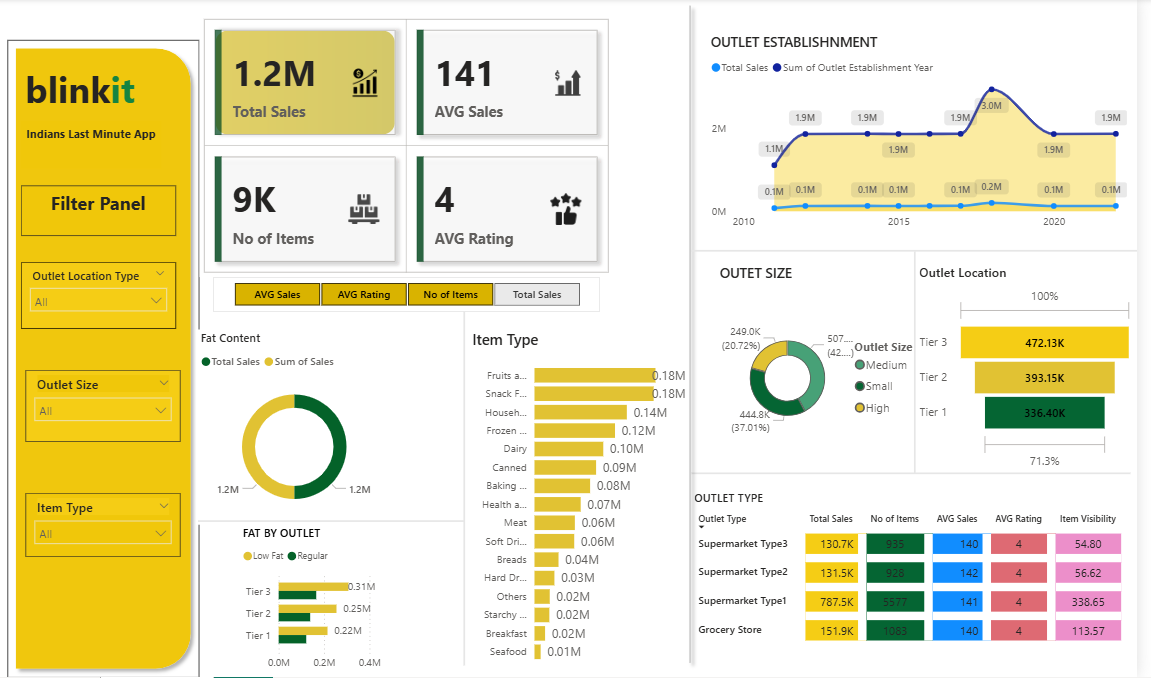

The dashboard page shown, as its layout file describes it:
{"tool":"powerbi","page":{"name":"Page 1","canvas":[1400,800],"ordinal":0},"visuals":[{"type":"shape","box":[68.9,49.5,226.2,751.1],"z":0},{"type":"textbox","box":[84.6,73.1,182.7,71.2],"z":1000},{"type":"cardVisual","fields":{"Data":["BlinkIT Grocery Data.Total Sales","BlinkIT Grocery Data.AVG Sales","BlinkIT Grocery Data.No of Items","BlinkIT Grocery Data.AVG Rating"]},"box":[295.1,19.4,487.8,309.3],"z":2000},{"type":"donutChart","title":" Fat Content","fields":{"Y":["BlinkIT Grocery Data.Total Sales","Sum(BlinkIT Grocery Data.Sales)"]},"box":[291.6,390.6,229.8,229.8],"z":3000},{"type":"slicer","fields":{"Values":["Metrices.Metrices"]},"box":[311.1,328.7,456,40.6],"z":4000},{"type":"actionButton","box":[0,0,100,40],"z":5000},{"type":"cardVisual","fields":{"Data":["BlinkIT Grocery Data.Total Sales"]},"box":[452.4,620.3,68.9,42.4],"z":6000},{"type":"clusteredBarChart","title":"FAT BY OUTLET","fields":{"Y":["BlinkIT Grocery Data.Total Sales"],"Category":["BlinkIT Grocery Data.Outlet Location Type"],"Series":["BlinkIT Grocery Data.Item Fat Content"]},"box":[341.1,620.3,180.3,180.3],"z":7000},{"type":"shape","box":[295.1,369.4,623.9,417.1],"z":8000},{"type":"barChart","title":"Item Type","fields":{"Y":["BlinkIT Grocery Data.Total Sales"],"Category":["BlinkIT Grocery Data.Item Type"]},"box":[611.5,390.4,261.5,401.9],"z":9000},{"type":"lineChart","title":"OUTLET ESTABLISHNMENT","fields":{"Y":["BlinkIT Grocery Data.Total Sales","Sum(BlinkIT Grocery Data.Outlet Establishment Year)","BlinkIT Grocery Data.Total Sales"],"Category":["BlinkIT Grocery Data.Outlet Establishment Year"]},"box":[892.3,40.4,500,240.4],"z":10000},{"type":"donutChart","title":"OUTET SIZE","fields":{"Y":["BlinkIT Grocery Data.Total Sales"],"Category":["BlinkIT Grocery Data.Outlet Size"]},"box":[903.8,313.5,251.9,248.1],"z":11000},{"type":"funnel","title":" Outlet Location ","fields":{"Y":["Sum(BlinkIT Grocery Data.Sales)"],"Category":["BlinkIT Grocery Data.Outlet Location Type"]},"box":[1138.5,313.5,261.5,248.1],"z":12000},{"type":"pivotTable","title":"OUTLET TYPE","fields":{"Rows":["BlinkIT Grocery Data.Outlet Type"],"Values":["BlinkIT Grocery Data.Total Sales","BlinkIT Grocery Data.No of Items","BlinkIT Grocery Data.AVG Sales","BlinkIT Grocery Data.AVG Rating","Sum(BlinkIT Grocery Data.Item Visibility)"]},"box":[873.1,578.8,519.2,213.5],"z":13000},{"type":"textbox","box":[84.6,144.2,165.4,55.8],"z":14000},{"type":"shape","box":[294.2,546.2,313.5,140.4],"z":15000},{"type":"shape","box":[875,409.6,517.3,300],"z":16000},{"type":"shape","box":[730.8,0,286.5,792.3],"z":17000},{"type":"shape","box":[988.5,298.1,300,261.5],"z":18000},{"type":"shape","box":[875,221.2,525,153.8],"z":19000},{"type":"slicer","fields":{"Values":["BlinkIT Grocery Data.Outlet Location Type"]},"box":[84.6,311.5,182.7,78.8],"z":20000},{"type":"slicer","fields":{"Values":["BlinkIT Grocery Data.Outlet Size"]},"box":[90.4,438.5,182.7,84.6],"z":21000},{"type":"slicer","fields":{"Values":["BlinkIT Grocery Data.Item Type"]},"box":[90.4,582.7,182.7,75],"z":22000},{"type":"textbox","box":[84.6,221.2,182.7,59.6],"z":23000}]}

Visuals, with their boxes on the page's 1400x800 design canvas (x1, y1, x2, y2). These are canvas units, not pixel positions in the 1151x678 screenshot, which may show the page scaled, cropped or inside an application window:
shape: 69 50 295 801
textbox: 85 73 267 144
cardVisual - BlinkIT Grocery Data.Total Sales x BlinkIT Grocery Data.AVG Sales: 295 19 783 329
" Fat Content" donutChart: 292 391 521 620
slicer - Metrices.Metrices: 311 329 767 369
actionButton: 0 0 100 40
cardVisual - BlinkIT Grocery Data.Total Sales: 452 620 521 663
"FAT BY OUTLET" clusteredBarChart: 341 620 521 801
shape: 295 369 919 786
"Item Type" barChart: 612 390 873 792
"OUTLET ESTABLISHNMENT" lineChart: 892 40 1392 281
"OUTET SIZE" donutChart: 904 314 1156 562
" Outlet Location " funnel: 1138 314 1400 562
"OUTLET TYPE" pivotTable: 873 579 1392 792
textbox: 85 144 250 200
shape: 294 546 608 687
shape: 875 410 1392 710
shape: 731 0 1017 792
shape: 988 298 1288 560
shape: 875 221 1400 375
slicer - BlinkIT Grocery Data.Outlet Location Type: 85 312 267 390
slicer - BlinkIT Grocery Data.Outlet Size: 90 438 273 523
slicer - BlinkIT Grocery Data.Item Type: 90 583 273 658
textbox: 85 221 267 281
